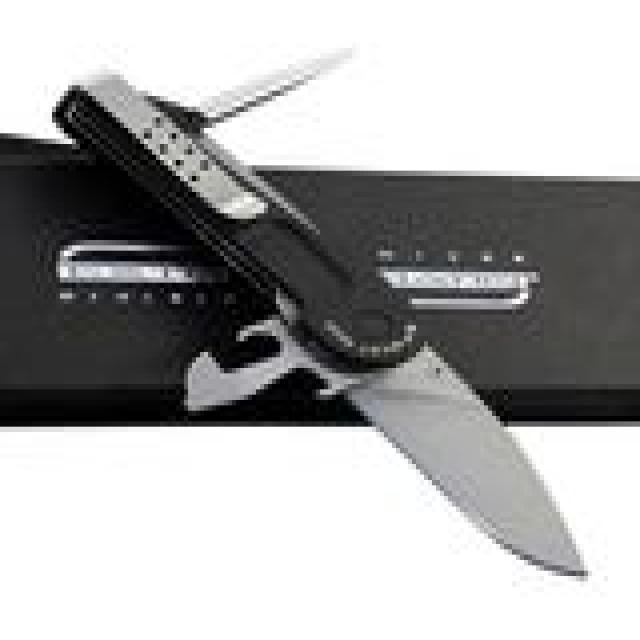Knife: (49, 51, 588, 576)
